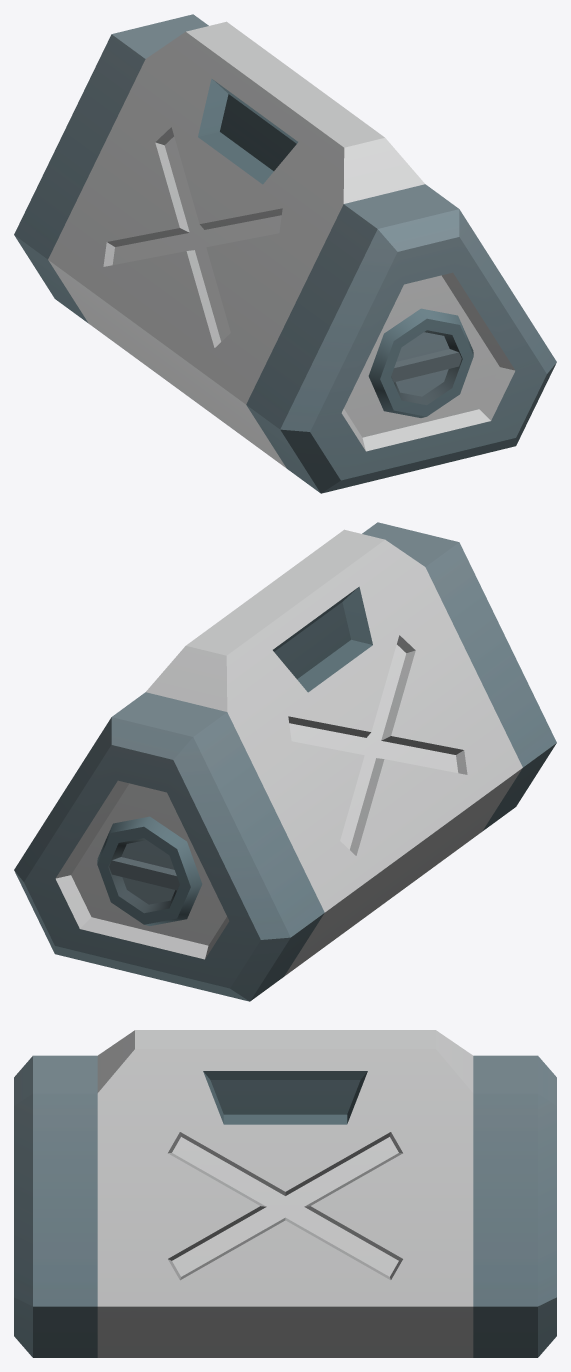
The model's file is Gas_can_015.glb.
3 views of the same model, one above another, from view 1: azimuth 30°, elevation 25°; view 2: azimuth 150°, elevation 25°; view 3: azimuth 270°, elevation 25° (orthographic). The views are drawn at different scales.
Visible parts, largest first — view 1: Gas_can_015; view 2: Gas_can_015; view 3: Gas_can_015.
Part boxes in pixels (x1,y1,x2,y2): Gas_can_015: (14, 14, 556, 493); Gas_can_015: (14, 522, 556, 1001); Gas_can_015: (14, 1030, 556, 1357).
Size of the model in its own units: 0.3399 by 0.3377 by 0.6085.
Materials: 1 (1 with a texture image).
